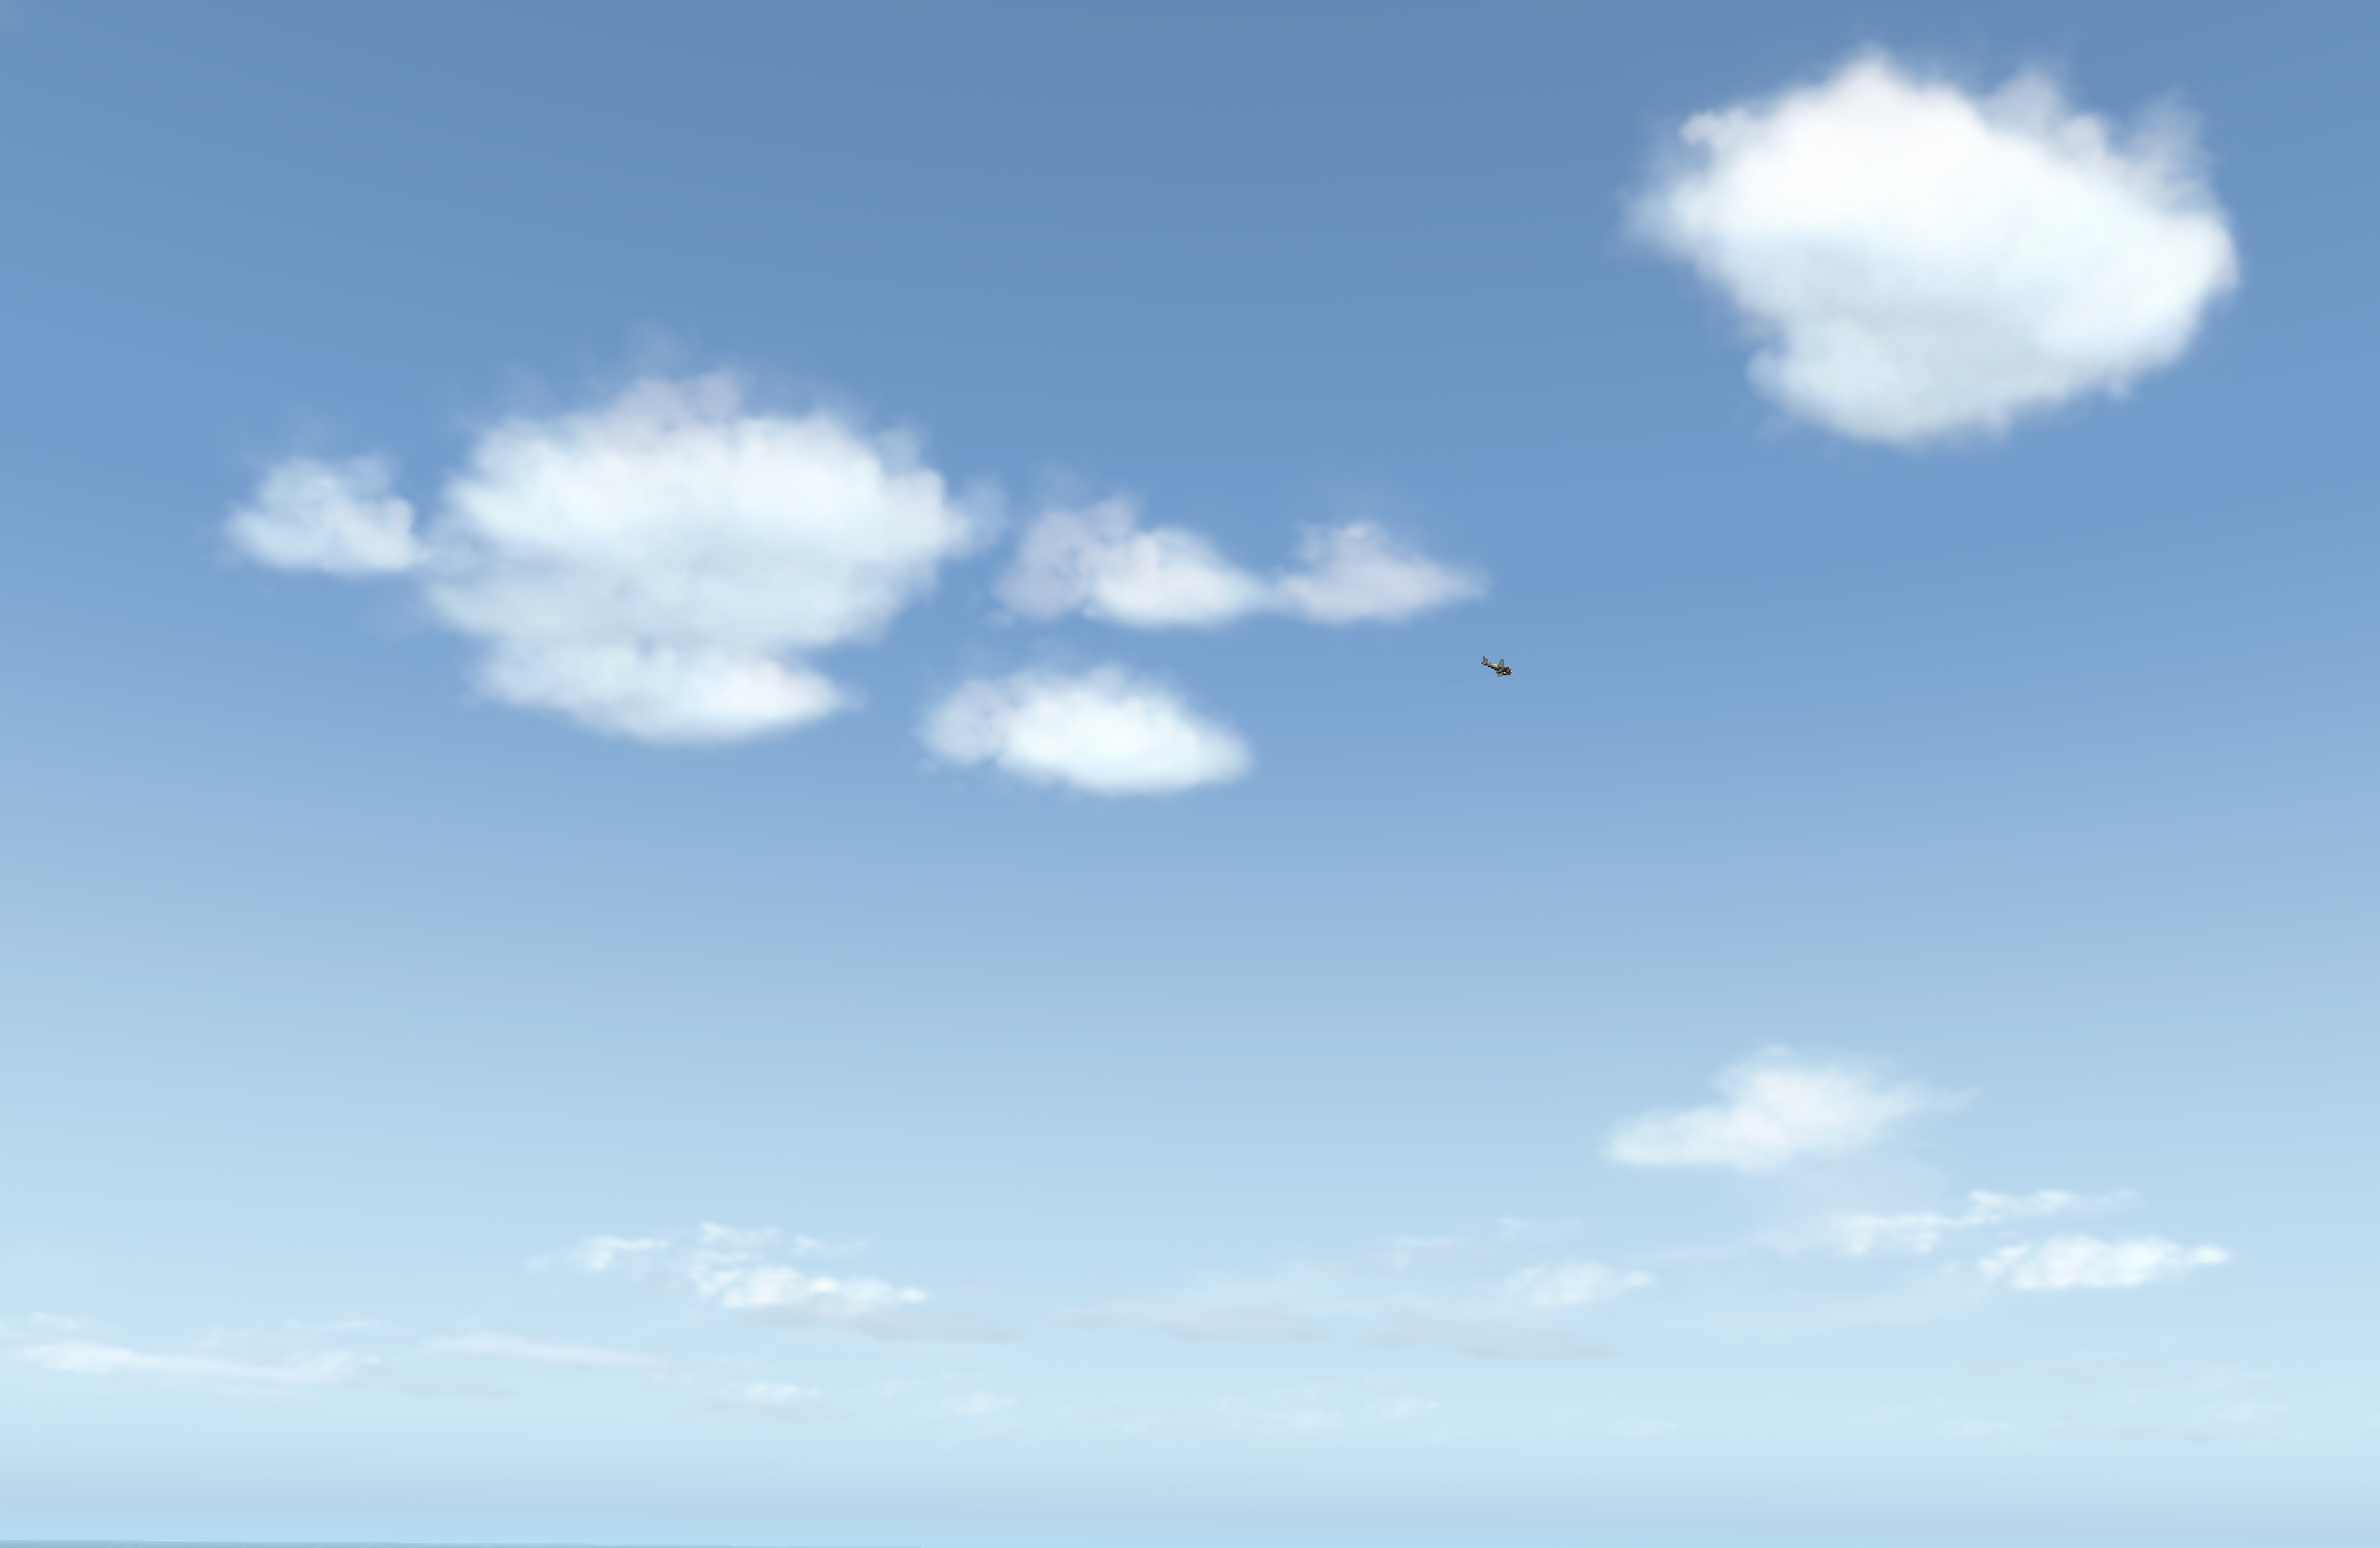aircraft: (1478, 661, 1527, 680)
